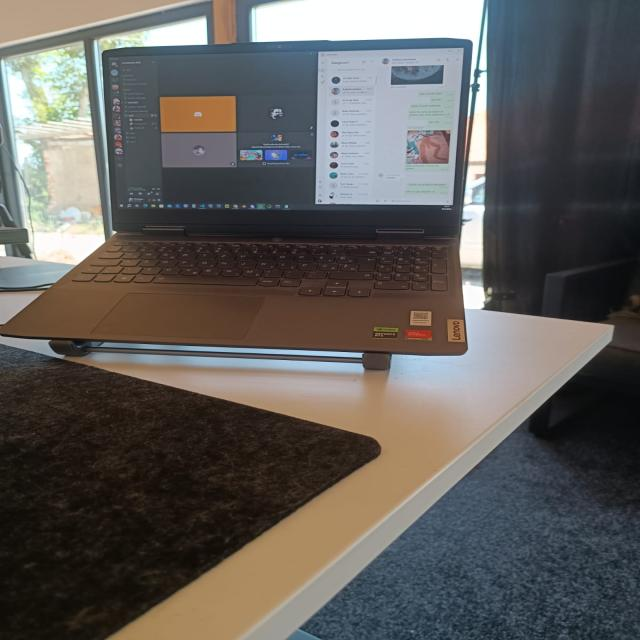Laptops_bbox: (32, 13, 512, 410)
